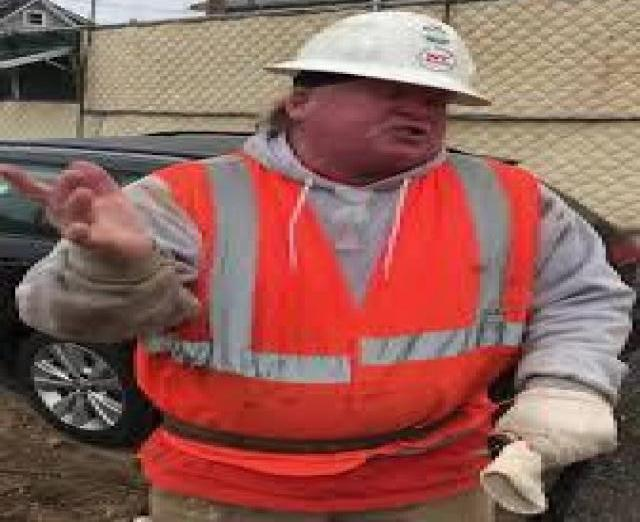hat: (255, 1, 524, 134)
vest: (91, 108, 640, 522)
